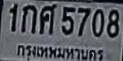0: (92, 8, 104, 36)
1: (9, 3, 17, 31)
5: (61, 6, 74, 34)
7: (77, 7, 90, 35)
8: (106, 9, 118, 37)
A01: (21, 4, 36, 33)
A38: (39, 4, 56, 34)
BKK: (14, 42, 108, 61)
